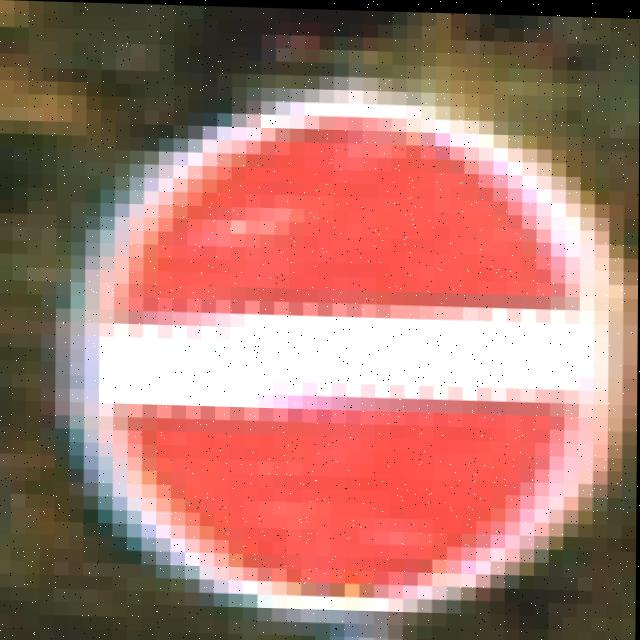road_rough: (54, 81, 639, 592)
